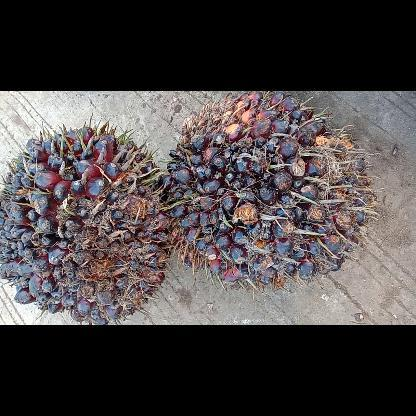TBS mentah: (167, 91, 377, 285), (0, 126, 172, 324)
